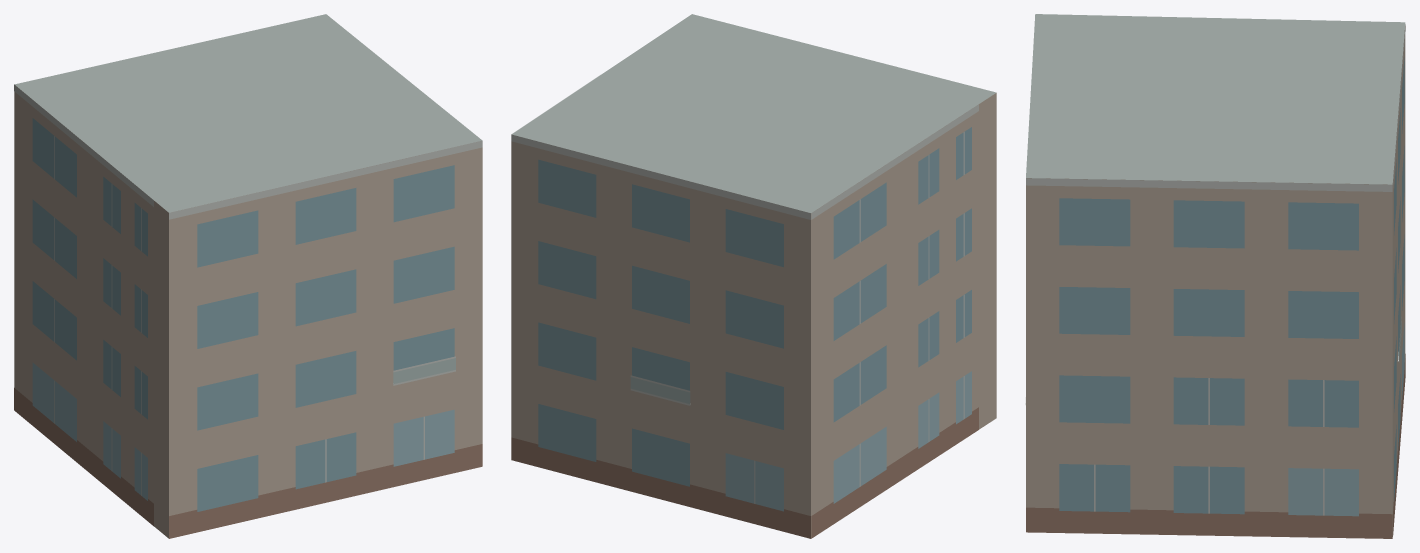
File: survey-upis-32929983.glb
3 views of the same model, side by side, from view 1: azimuth 30°, elevation 25°; view 2: azimuth 150°, elevation 25°; view 3: azimuth 270°, elevation 25° (orthographic). The views are drawn at different scales.
Parts seen in each view (by area): view 1: survey-upis-32929983.tmp; view 2: survey-upis-32929983.tmp; view 3: survey-upis-32929983.tmp.
Part boxes in pixels (x1,y1,x2,y2): survey-upis-32929983.tmp: (14, 14, 482, 538); survey-upis-32929983.tmp: (511, 14, 996, 538); survey-upis-32929983.tmp: (1025, 14, 1405, 538).
Bounding box in the file's own units: 11.98 × 11.6 × 11.28.
